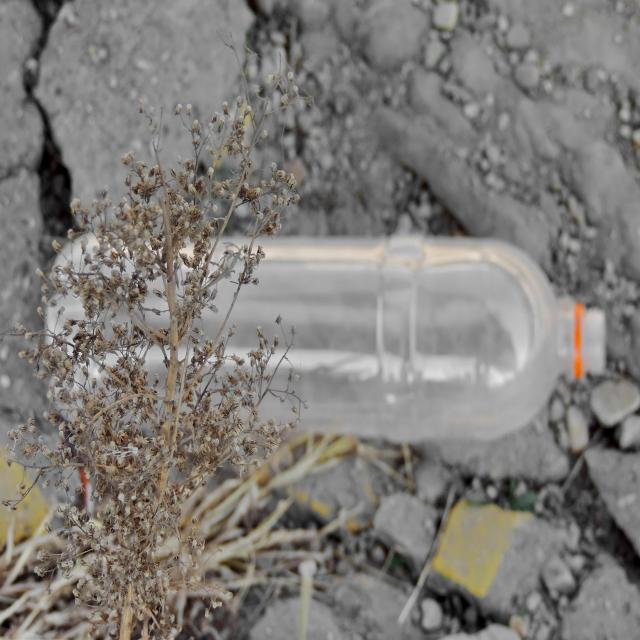bottle: (37, 227, 615, 449)
